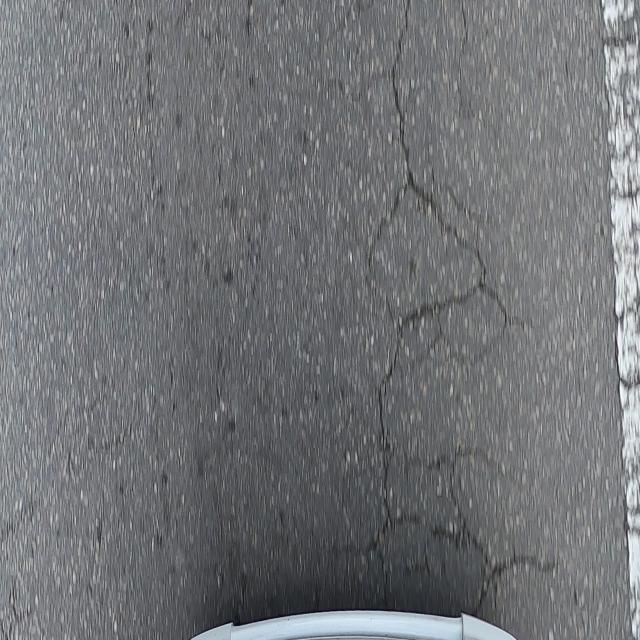Retak-Buaya: (364, 181, 560, 614)
Retak-Memanjang: (391, 0, 413, 176)
